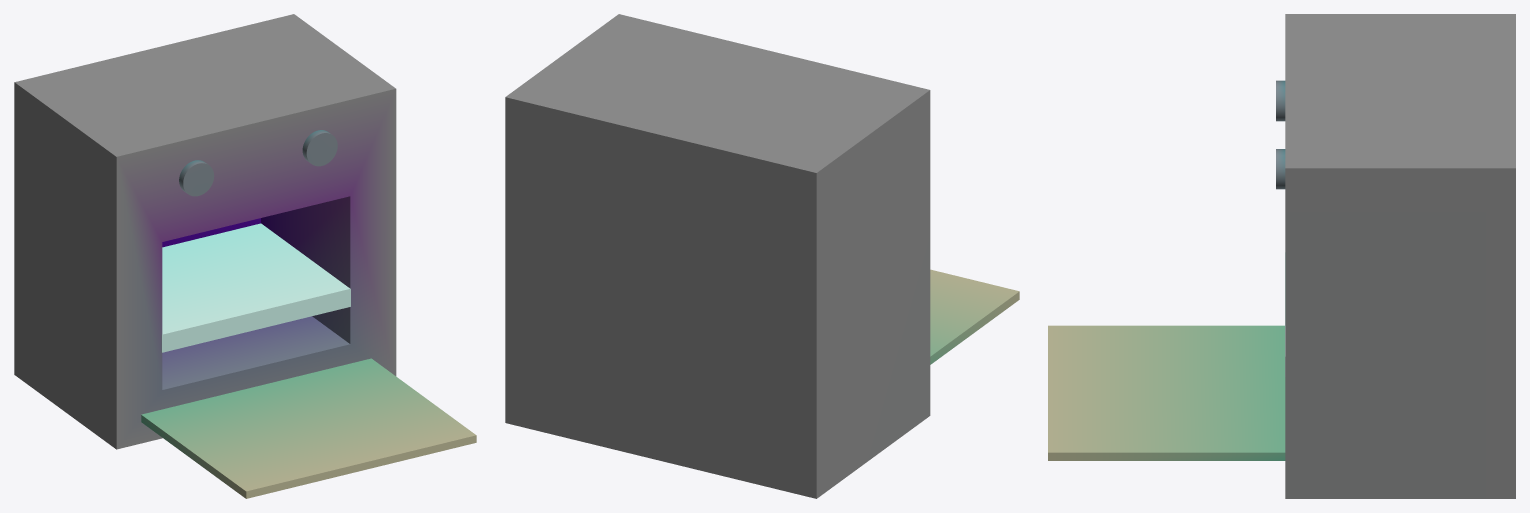
The picture shows the model from 3 angles, left to right: view 1: azimuth 30°, elevation 25°; view 2: azimuth 150°, elevation 25°; view 3: azimuth 270°, elevation 25°; orthographic projection. The views are drawn at different scales.
Parts seen in each view (by area): view 1: case, door, shelf, control.001, control; view 2: case, door; view 3: case, door.
Boxes of the visible parts, x1,y1,x2,y2 form: case: (14, 14, 396, 449); door: (141, 358, 476, 498); shelf: (161, 223, 350, 352); control.001: (302, 130, 337, 166); control: (179, 160, 214, 196); case: (505, 14, 930, 498); door: (930, 269, 1019, 364); case: (1285, 14, 1515, 498); door: (1048, 325, 1285, 460).
Size of the model in its own units: 0.4687 by 0.4687 by 0.601.
